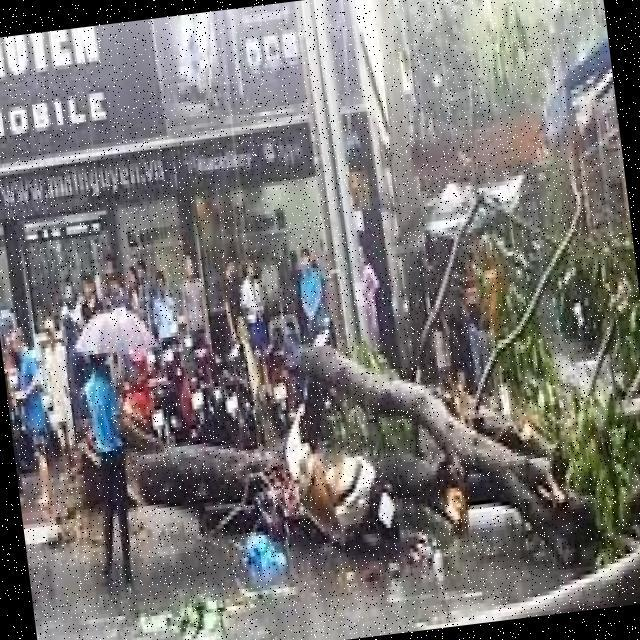fallen_object: (49, 225, 640, 640)
